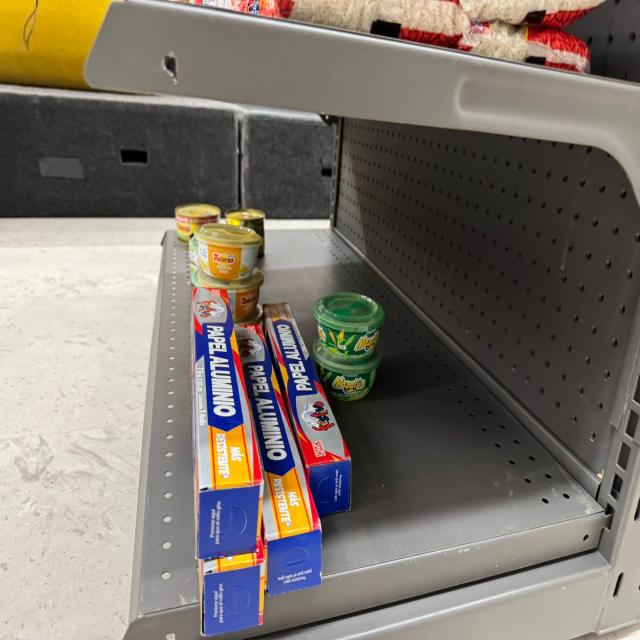ATUN DOLORES EN ACEITE 130GRS: (225, 208, 265, 236)
Arroz La Posada 900 gr: (267, 0, 477, 49), (460, 20, 595, 75)
Atun Dolores aceite 295gr lata: (176, 202, 221, 243)
Dolores SURFY Cup Can Elotitos 24135 gr: (198, 267, 265, 327), (194, 223, 263, 280)
Ensalada Atun Mazatun CupCan: (313, 292, 386, 363), (312, 336, 383, 402)
Papel aluminio festivo rollo 76 m X 30 cm pz: (234, 322, 323, 595), (190, 286, 265, 559), (263, 302, 353, 517), (198, 536, 266, 638)
